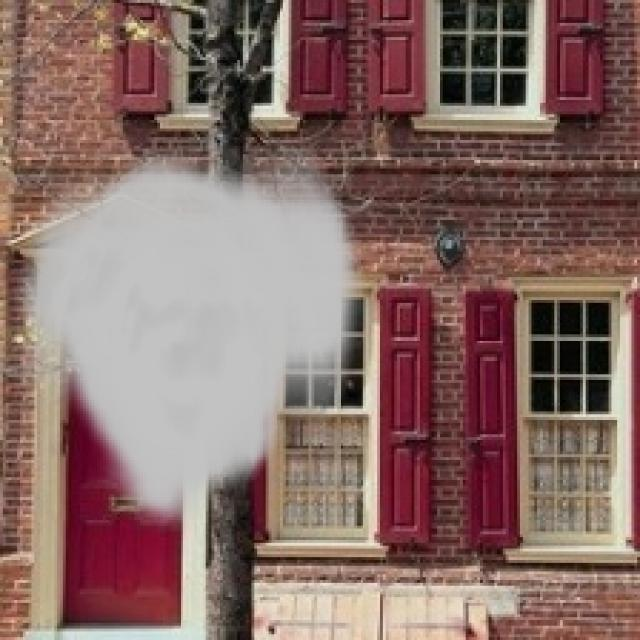Smoke: (8, 148, 366, 532)
